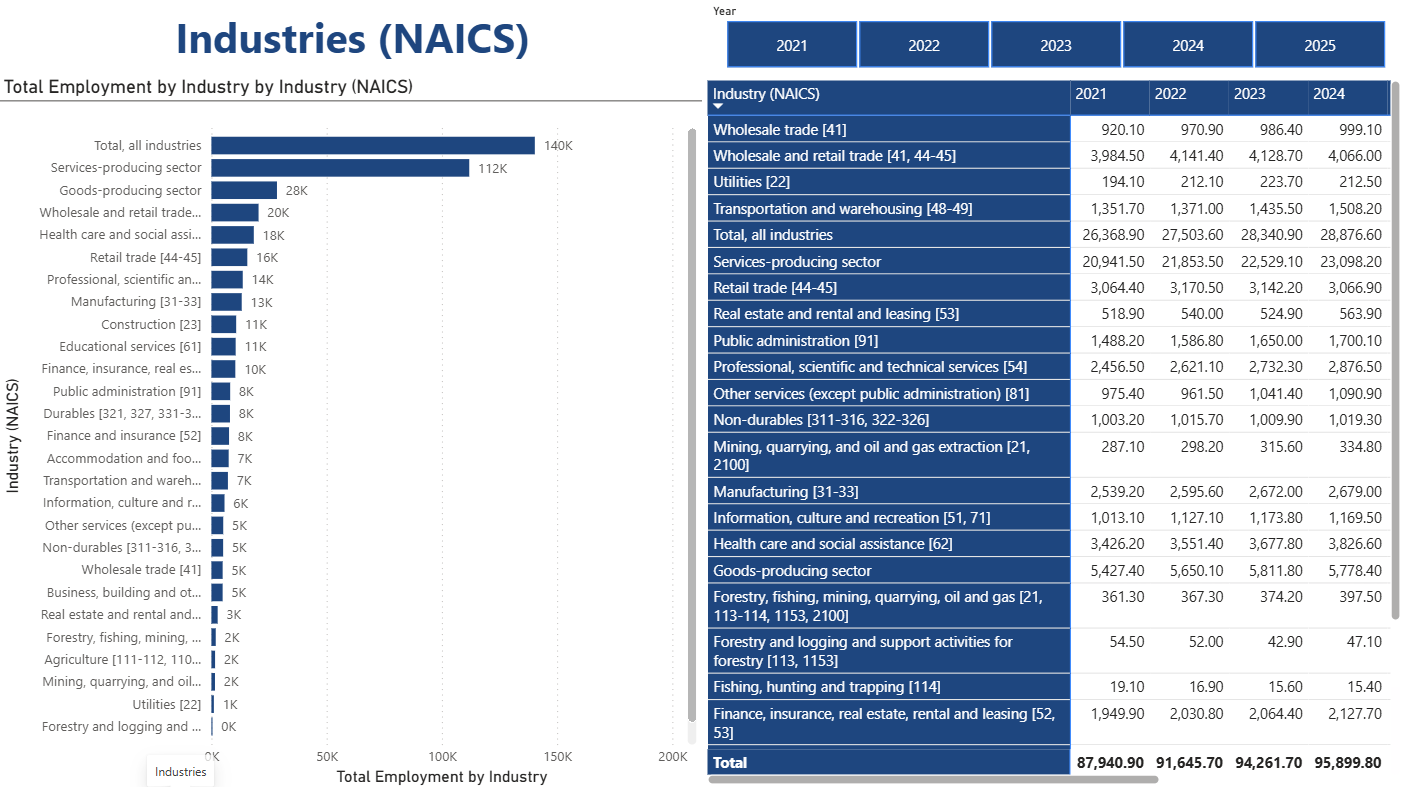

What the dashboard file says about the page in this screenshot:
{"tool":"powerbi","page":{"name":"Industries","canvas":[1280,720],"ordinal":1},"visuals":[{"type":"barChart","fields":{"Category":["Canada Labour Force Survey 2021-2025.Industry (NAICS)"],"Y":["Canada Labour Force Survey 2021-2025.Total Employment by Industry"]},"box":[0,70,640,650],"z":0},{"type":"pivotTable","fields":{"Rows":["Canada Labour Force Survey 2021-2025.Industry (NAICS)"],"Columns":["YearTable.Year"],"Values":["Canada Labour Force Survey 2021-2025.Total Employment by Industry"]},"box":[640,70,640,650],"z":1000},{"type":"slicer","fields":{"Values":["Canada Labour Force Survey 2021-2025.Year"]},"box":[640,0,640,70],"z":2000},{"type":"textbox","box":[0,0,640,70],"z":3000}]}

Visuals, with their boxes in screenshot pixels (x1, y1, x2, y2), scaled from the page's 1280x720 canvas onto the 1401x787 screenshot:
barChart - Canada Labour Force Survey 2021-2025.Industry (NAICS) x Canada Labour Force Survey 2021-2025.Total Employment by Industry: x1=0, y1=77, x2=700, y2=786
pivotTable - Canada Labour Force Survey 2021-2025.Industry (NAICS) x YearTable.Year: x1=700, y1=77, x2=1400, y2=786
slicer - Canada Labour Force Survey 2021-2025.Year: x1=700, y1=0, x2=1400, y2=77
textbox: x1=0, y1=0, x2=700, y2=77
